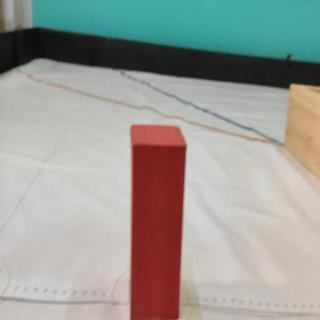redbox: (127, 122, 188, 320)
